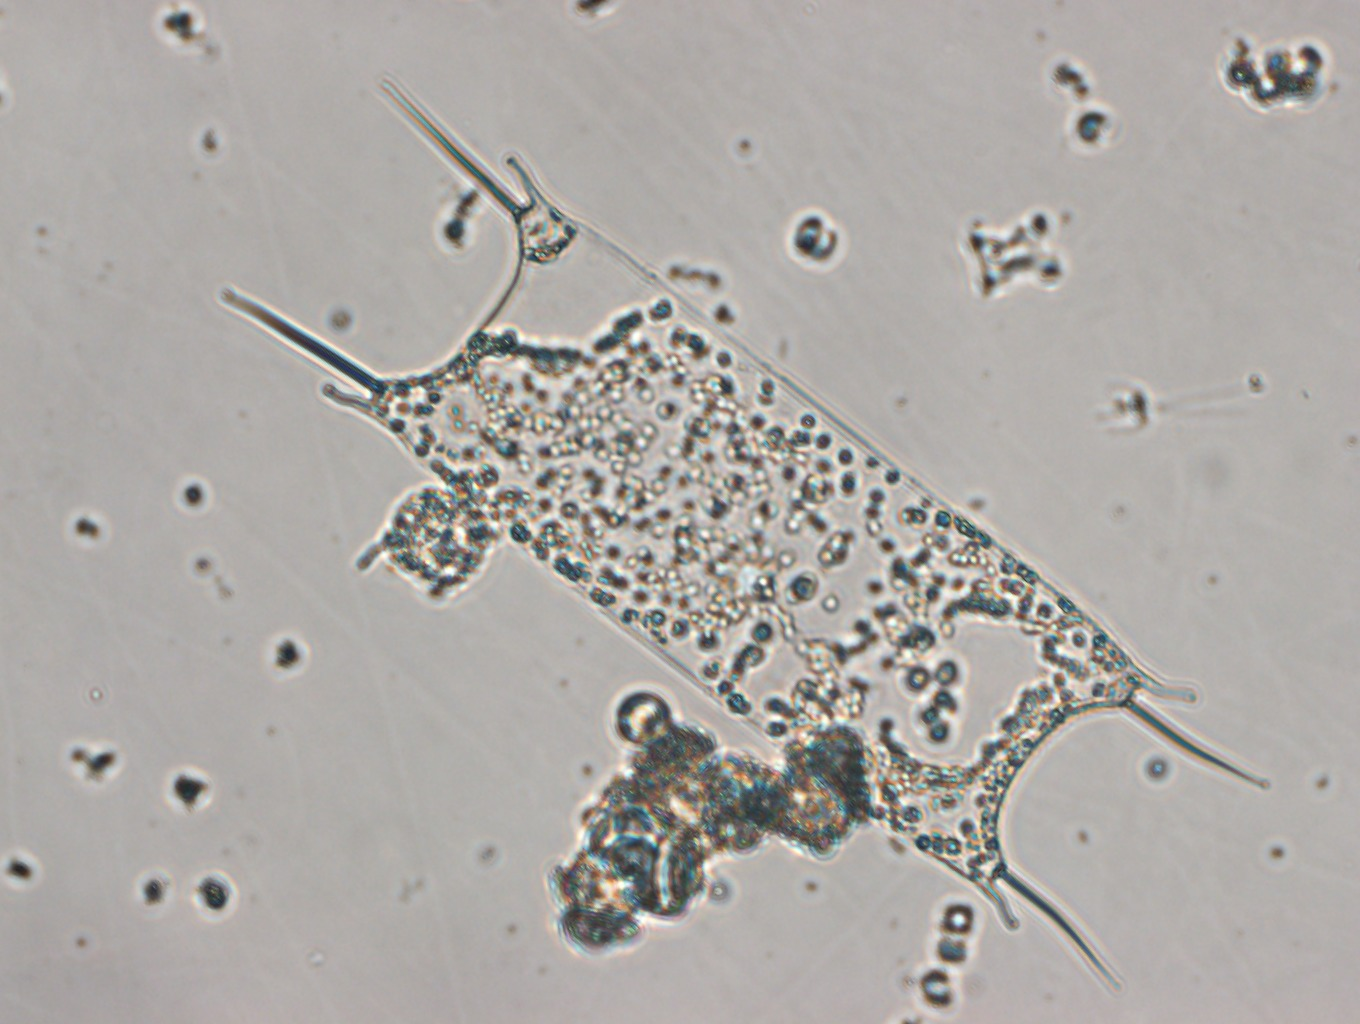biddulphia: (212, 76, 1273, 990)
